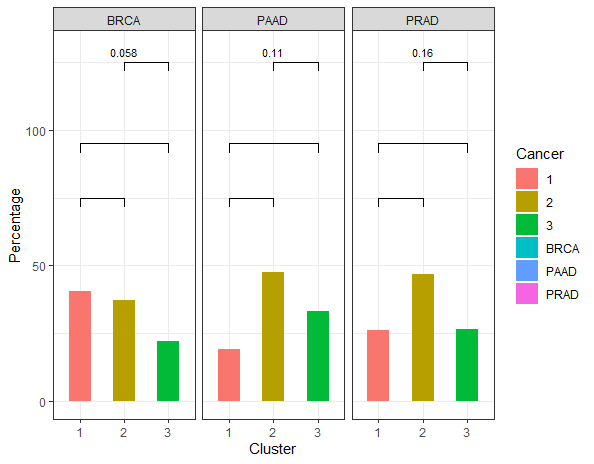OK_NoIssue: (2, 4, 580, 463)
